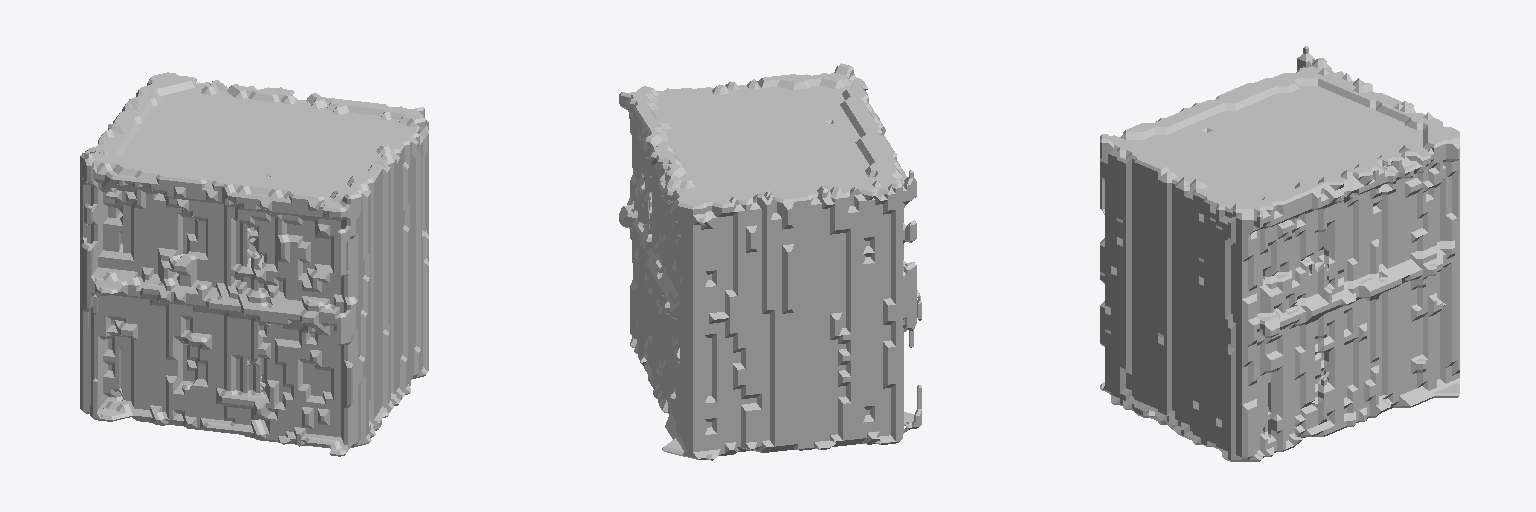
File: gen10_colored.obj
3 renders of one model, left to right at view 1: azimuth 30°, elevation 25°; view 2: azimuth 150°, elevation 25°; view 3: azimuth 270°, elevation 25°, orthographic.
Parts seen in each view (by area): view 1: gen10.obj; view 2: gen10.obj; view 3: gen10.obj.
Boxes of the visible parts, box(x1,y1,x2,y2) form: gen10.obj: box(80, 72, 428, 456); gen10.obj: box(619, 63, 921, 460); gen10.obj: box(1100, 46, 1459, 461).
Size of the model in its own units: 63 by 51 by 62.